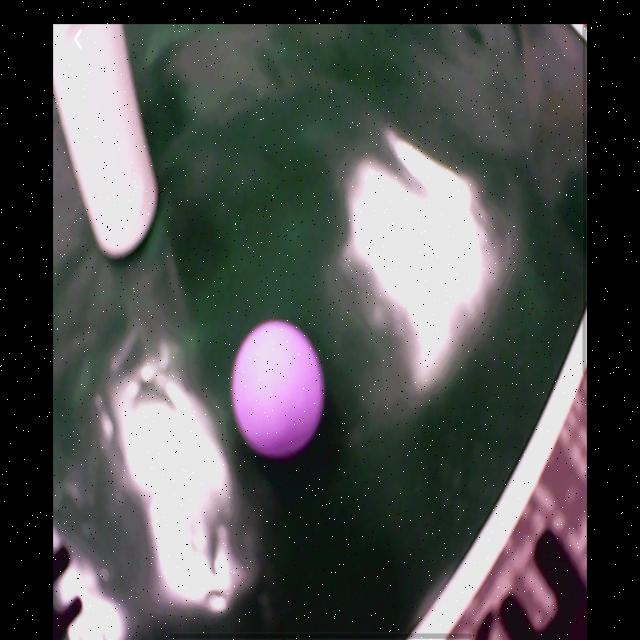ball: (234, 323, 324, 458)
